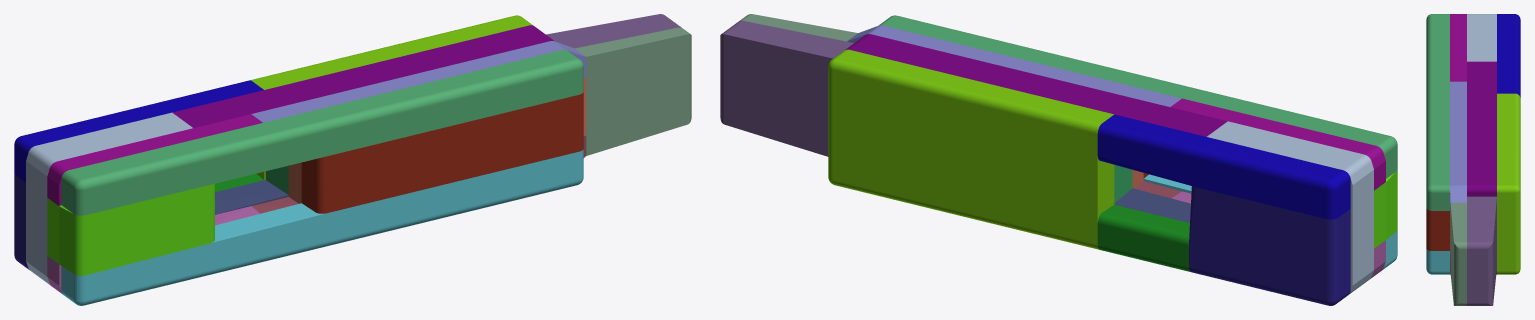
Rendered from 3_body.obj.
The picture shows the model from 3 angles, left to right: view 1: azimuth 30°, elevation 25°; view 2: azimuth 150°, elevation 25°; view 3: azimuth 270°, elevation 25°; orthographic projection. The views are drawn at different scales.
Parts seen in each view (by area): view 1: geometry_3, geometry_2, geometry_15, geometry_0, geometry_17, geometry_11, geometry_6, geometry_12, geometry_4, geometry_5, geometry_14, geometry_1 (+6 smaller); view 2: geometry_4, geometry_18, geometry_5, geometry_1, geometry_11, geometry_3, geometry_6, geometry_8, geometry_12, geometry_14, geometry_17, geometry_16 (+4 smaller); view 3: geometry_3, geometry_4, geometry_11, geometry_1, geometry_12, geometry_5, geometry_0, geometry_6, geometry_14, geometry_15, geometry_2.
Part boxes in pixels (x1,y1,x2,y2): geometry_3: (61, 49, 583, 215); geometry_2: (61, 149, 583, 305); geometry_15: (301, 92, 583, 213); geometry_0: (575, 27, 691, 155); geometry_17: (47, 183, 214, 275); geometry_11: (172, 25, 553, 127); geometry_6: (26, 112, 192, 285); geometry_12: (251, 41, 586, 122); geometry_4: (251, 15, 533, 180); geometry_5: (14, 80, 263, 182); geometry_14: (47, 114, 262, 206); geometry_1: (546, 14, 681, 48); geometry_4: (828, 49, 1114, 249); geometry_18: (1189, 186, 1350, 305); geometry_5: (1097, 114, 1350, 219); geometry_1: (720, 20, 853, 156); geometry_11: (845, 34, 1227, 136); geometry_3: (879, 15, 1397, 178); geometry_6: (1207, 121, 1373, 294); geometry_8: (1097, 204, 1189, 271); geometry_12: (847, 25, 1181, 106); geometry_14: (1170, 98, 1385, 190); geometry_17: (1374, 170, 1397, 248); geometry_16: (1114, 188, 1190, 222); geometry_3: (1426, 14, 1449, 210); geometry_4: (1497, 93, 1520, 274); geometry_11: (1467, 61, 1496, 196); geometry_1: (1467, 196, 1496, 305); geometry_12: (1450, 81, 1466, 216); geometry_5: (1497, 14, 1520, 97); geometry_0: (1450, 202, 1466, 305); geometry_6: (1467, 14, 1496, 61); geometry_14: (1450, 14, 1466, 81); geometry_15: (1426, 209, 1449, 250); geometry_2: (1426, 249, 1449, 274).
Size of the model in its own units: 0.1274 by 0.024 by 0.023.
